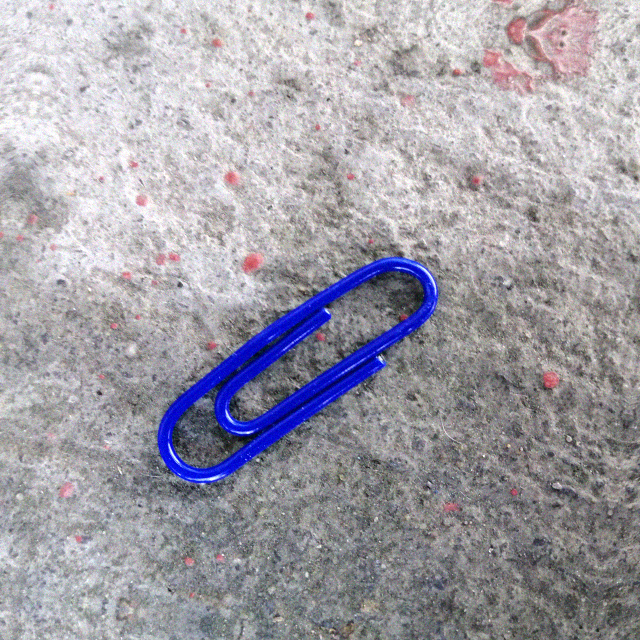pin: (153, 219, 438, 528)
